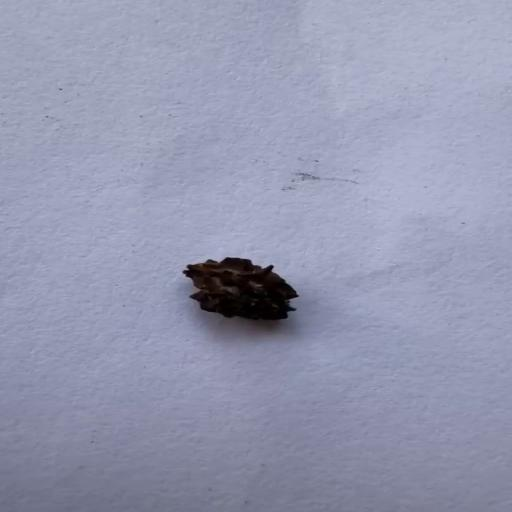papaya_seed: (182, 256, 302, 321)
